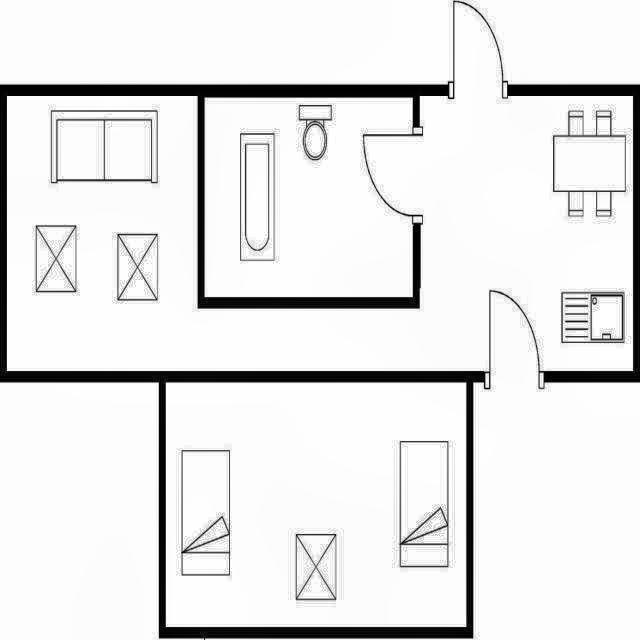room: (7, 95, 633, 372), (166, 382, 466, 627), (204, 97, 413, 297)
